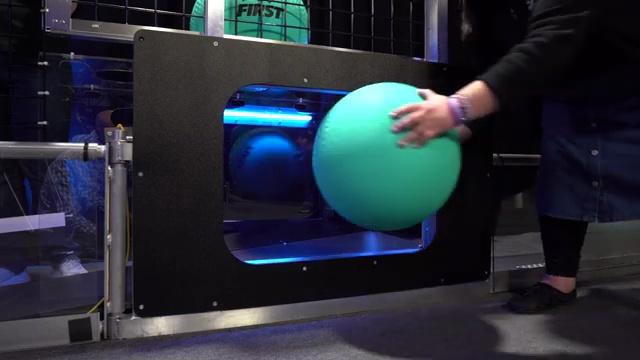ALGAE: (310, 80, 462, 231), (190, 0, 311, 45)
